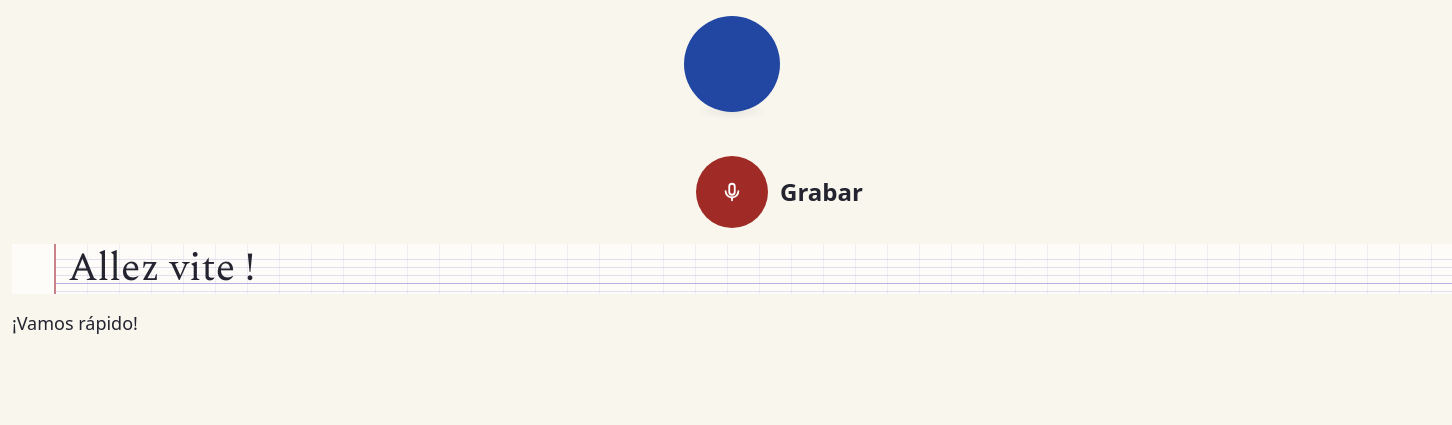
recording shows analyzing immediately
The width and height of the screenshot is (1452, 425).
Click the button "Grabar": x=732, y=192 [696,156,768,228]
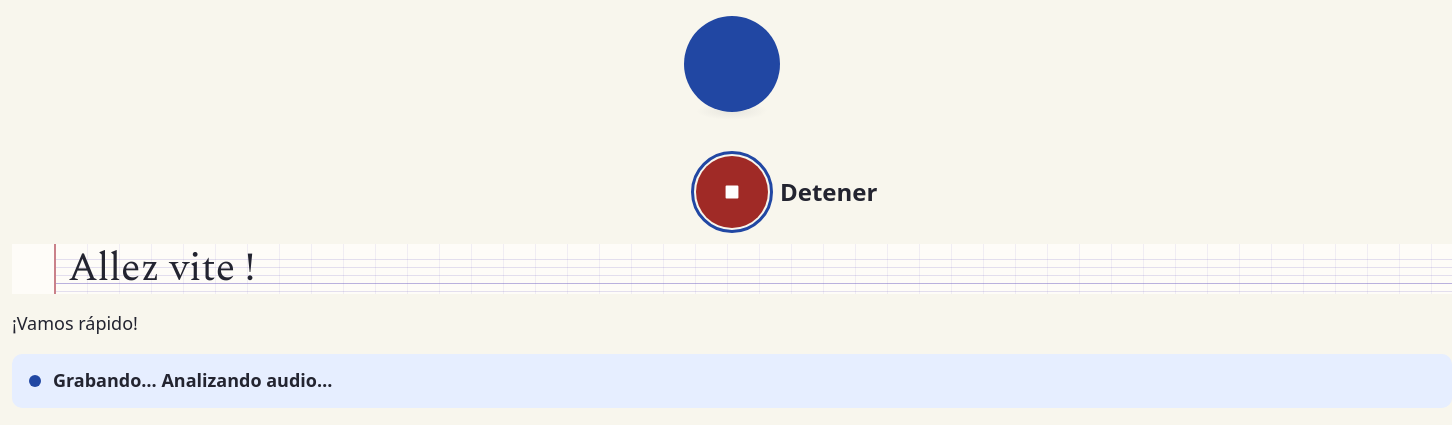
Expected: the message shows "Analizando audio…", [53,368,332,392]
